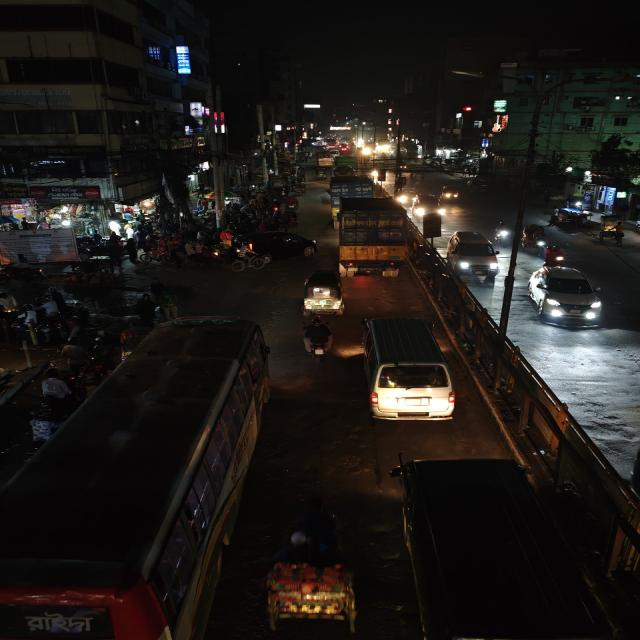bicycle: (224, 254, 272, 274)
bus: (1, 316, 271, 640), (395, 456, 550, 638)
car: (359, 314, 457, 424), (525, 263, 608, 330), (445, 228, 503, 280), (231, 229, 319, 262)
cng: (300, 268, 348, 318), (438, 183, 462, 204), (314, 168, 327, 181)
motorcycle: (300, 316, 336, 364), (542, 243, 568, 265), (492, 218, 513, 244)
pedestrian: (38, 374, 73, 402), (155, 290, 181, 322)
rickshaw: (259, 552, 363, 634), (520, 222, 548, 252), (520, 223, 549, 251)
truck: (333, 196, 412, 280), (328, 175, 374, 200)
